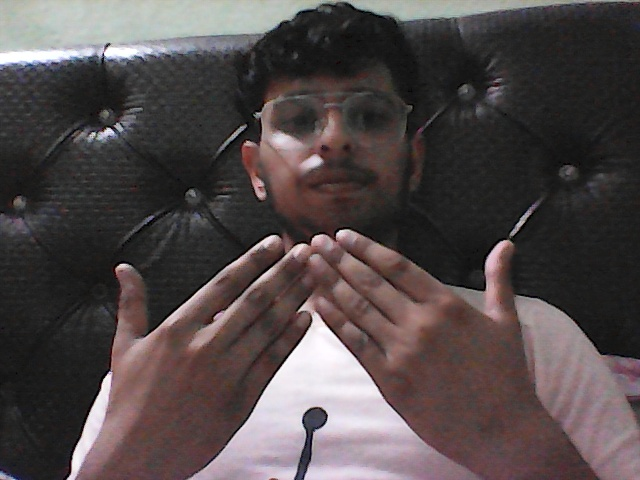thankyou: (78, 218, 547, 480)
